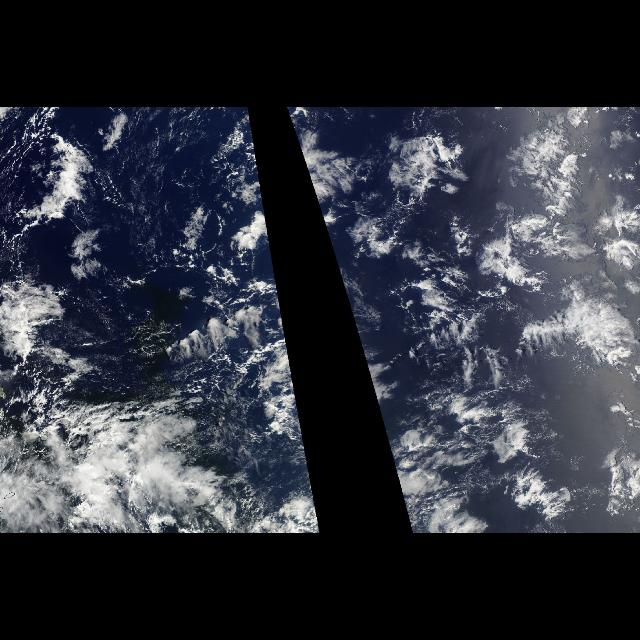Flower: (362, 122, 640, 514)
Gravel: (31, 358, 309, 494)
Sugar: (102, 108, 245, 354)
